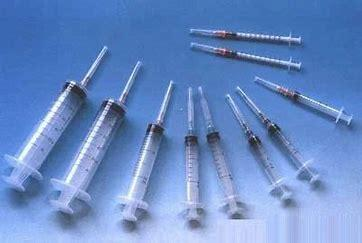Syringe: (42, 60, 149, 221), (253, 73, 358, 130), (178, 86, 210, 225), (185, 24, 306, 48)
